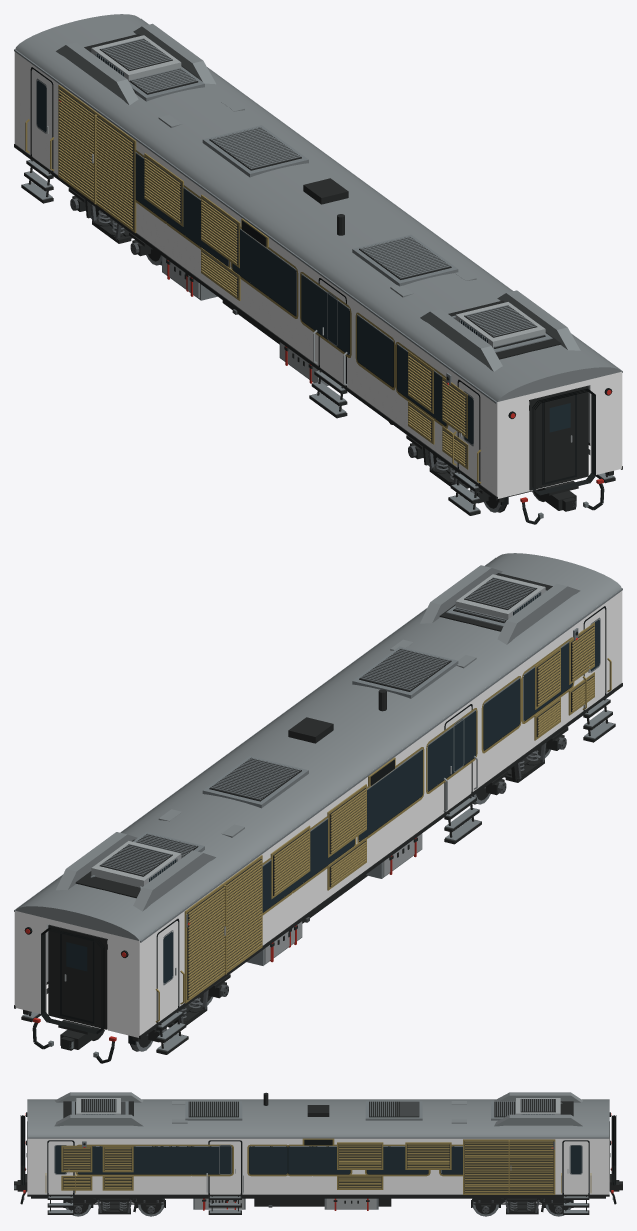
The model's file is nusantara-explorer-high-packed.glb.
3 views of the same model, one above another, from view 1: azimuth 30°, elevation 25°; view 2: azimuth 150°, elevation 25°; view 3: azimuth 270°, elevation 25° (orthographic). The views are drawn at different scales.
Parts seen in each view (by area): view 1: passenger-body (×6), passenger-door--1-1 (×2), passenger-door--1--1, rail-bogie--1, rail-bogie-1; view 2: passenger-body (×6), passenger-door--1-1 (×2), passenger-door--1--1, rail-bogie-1, rail-bogie--1; view 3: passenger-body (×5), passenger-door-1-1 (×2), passenger-door-1--1, rail-bogie-1, rail-bogie--1, rail-wheel-3, rail-wheel-5.
Boxes of the visible parts, box(x1,y1,x2,y2) form: passenger-body (×6): box(14, 14, 622, 524); passenger-door--1-1 (×2): box(319, 280, 479, 482); passenger-door--1--1: box(31, 69, 52, 170); rail-bogie--1: box(68, 188, 160, 256); rail-bogie-1: box(406, 435, 539, 505); passenger-body (×6): box(14, 553, 622, 1063); passenger-door--1-1 (×2): box(445, 608, 605, 811); passenger-door--1--1: box(157, 921, 178, 1021); rail-bogie-1: box(473, 727, 568, 796); rail-bogie--1: box(128, 974, 230, 1044); passenger-body (×5): box(17, 1092, 619, 1214); passenger-door-1-1 (×2): box(48, 1141, 240, 1194); passenger-door-1--1: box(563, 1141, 588, 1194); rail-bogie-1: box(63, 1198, 165, 1214); rail-bogie--1: box(471, 1198, 573, 1214); rail-wheel-3: box(472, 1201, 498, 1216); rail-wheel-5: box(138, 1201, 164, 1216).
Bounding box in the file's own units: 3.33 × 3.97 × 20.04.
